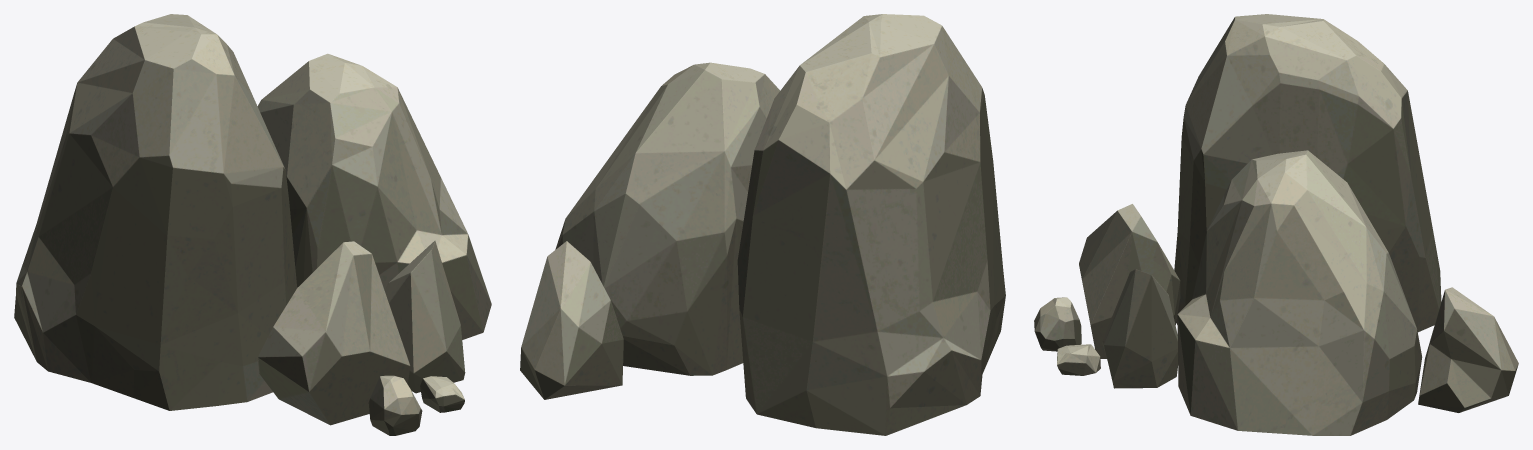
The model's file is rocks1.fbx.
3 renders of one model, left to right at view 1: azimuth 30°, elevation 25°; view 2: azimuth 150°, elevation 25°; view 3: azimuth 270°, elevation 25°, orthographic. The views are drawn at different scales.
Visible parts, largest first — view 1: node_id5; view 2: node_id5; view 3: node_id5.
Part boxes in pixels (x1,y1,x2,y2): node_id5: [14, 14, 491, 435]; node_id5: [520, 14, 1005, 435]; node_id5: [1034, 14, 1518, 435].
Size of the model in its own units: 0.512 by 0.3846 by 0.5869.
Materials: 1 (1 with a texture image).
